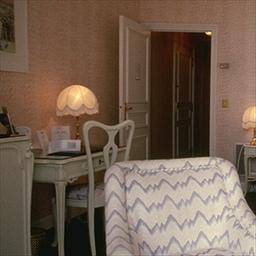Puerta: (120, 16, 153, 158)
